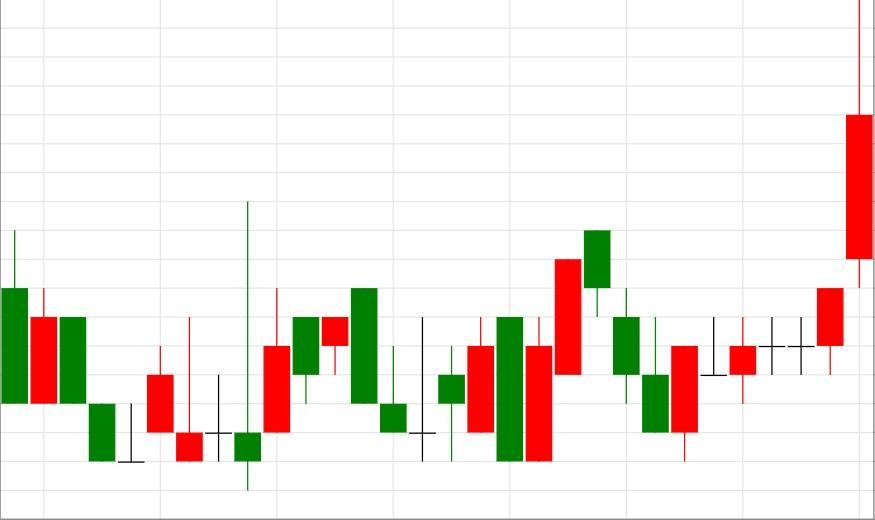bearish_engulfing_fall: (234, 202, 379, 491), (408, 316, 525, 462)
three_black_crows_fall: (495, 230, 670, 461)
